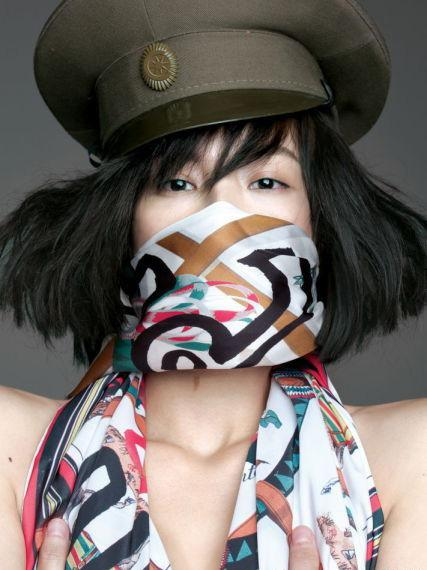OK: (108, 130, 318, 340)
